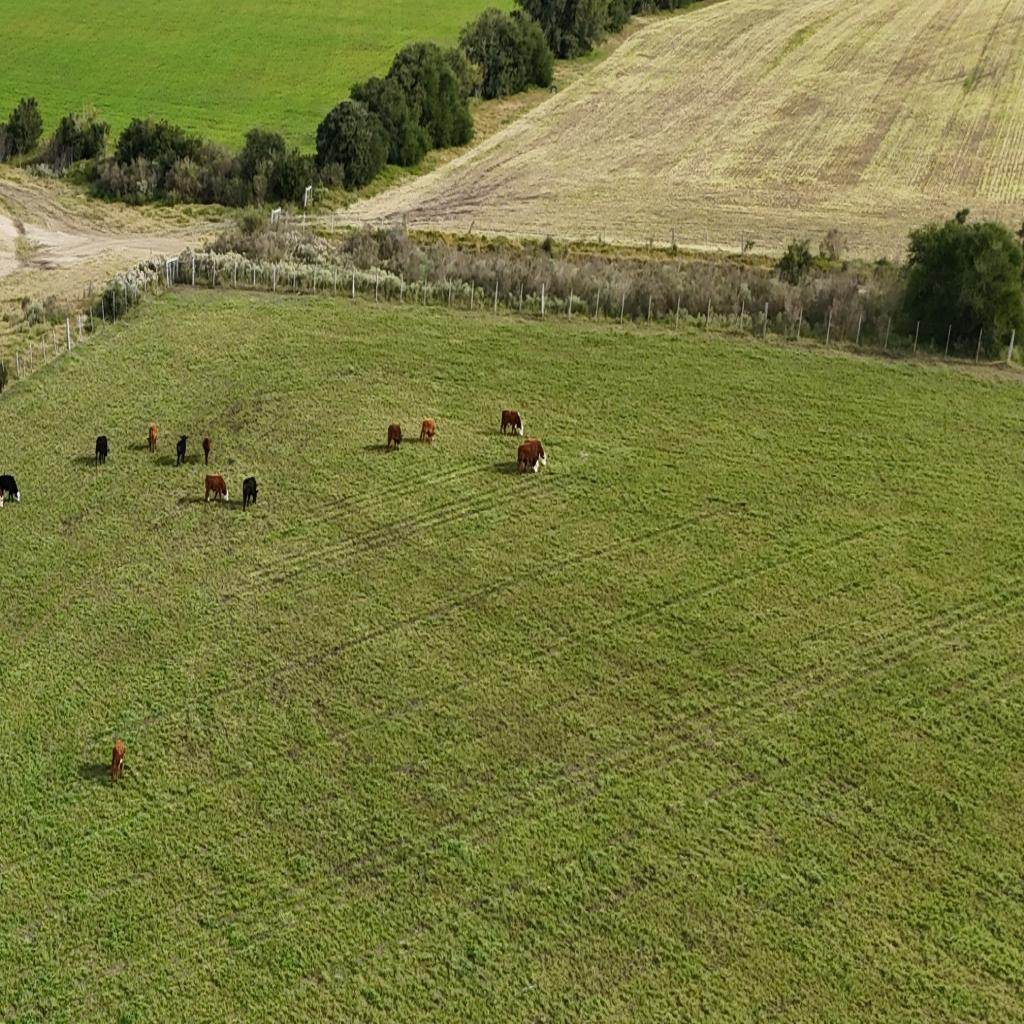cow: (515, 438, 546, 475), (204, 473, 228, 503), (0, 474, 21, 507), (500, 409, 524, 437), (242, 477, 258, 510), (387, 423, 403, 452), (95, 435, 109, 468), (112, 738, 125, 770), (176, 435, 188, 468), (420, 417, 436, 441), (148, 423, 158, 453), (202, 436, 212, 466)
